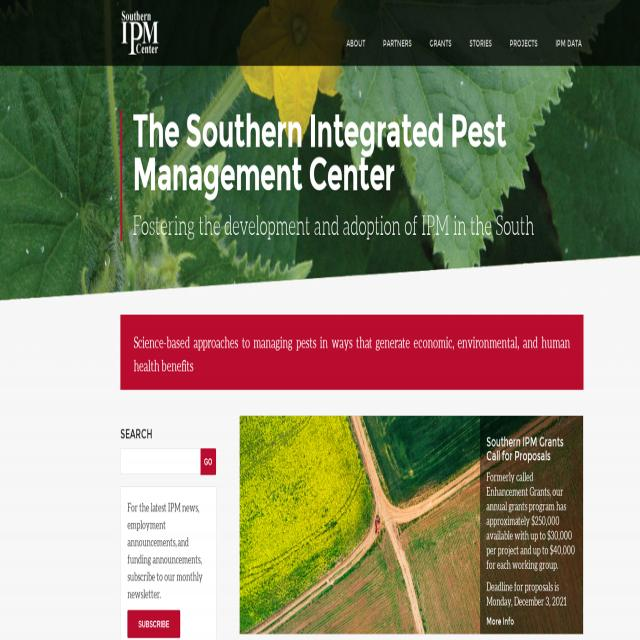button: (374, 20, 420, 66), (501, 20, 546, 66), (547, 20, 590, 66), (120, 7, 159, 56), (421, 20, 460, 66), (461, 20, 499, 66), (338, 20, 373, 66), (128, 611, 180, 639), (200, 448, 216, 474)
field: (120, 449, 200, 474)
